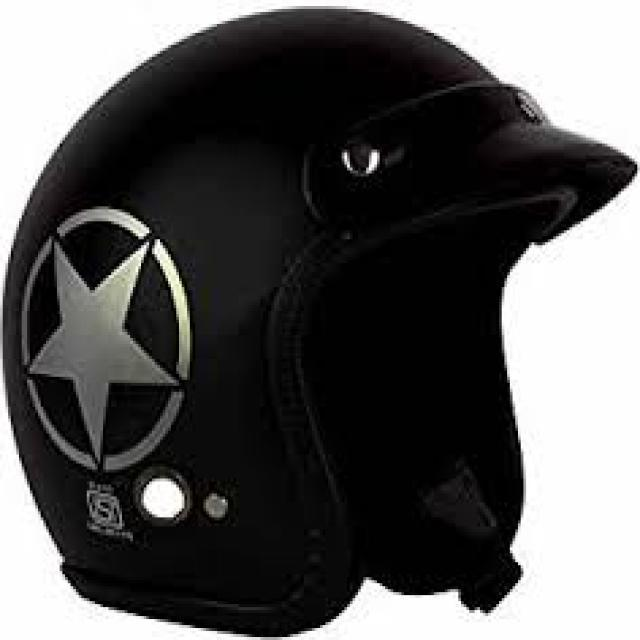helmet on: (9, 12, 637, 635)
